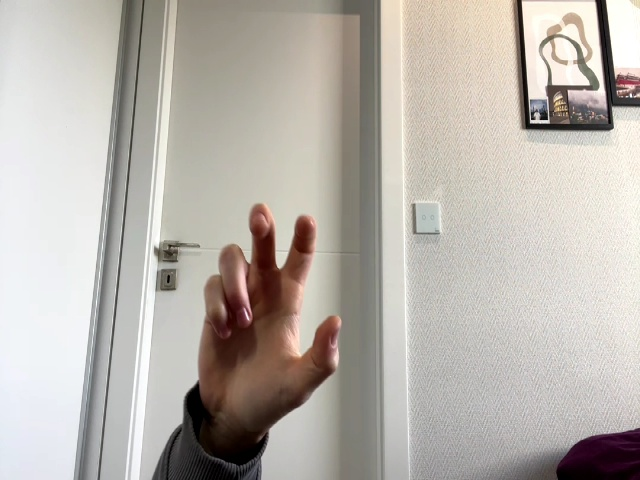CH: (198, 204, 342, 425)
